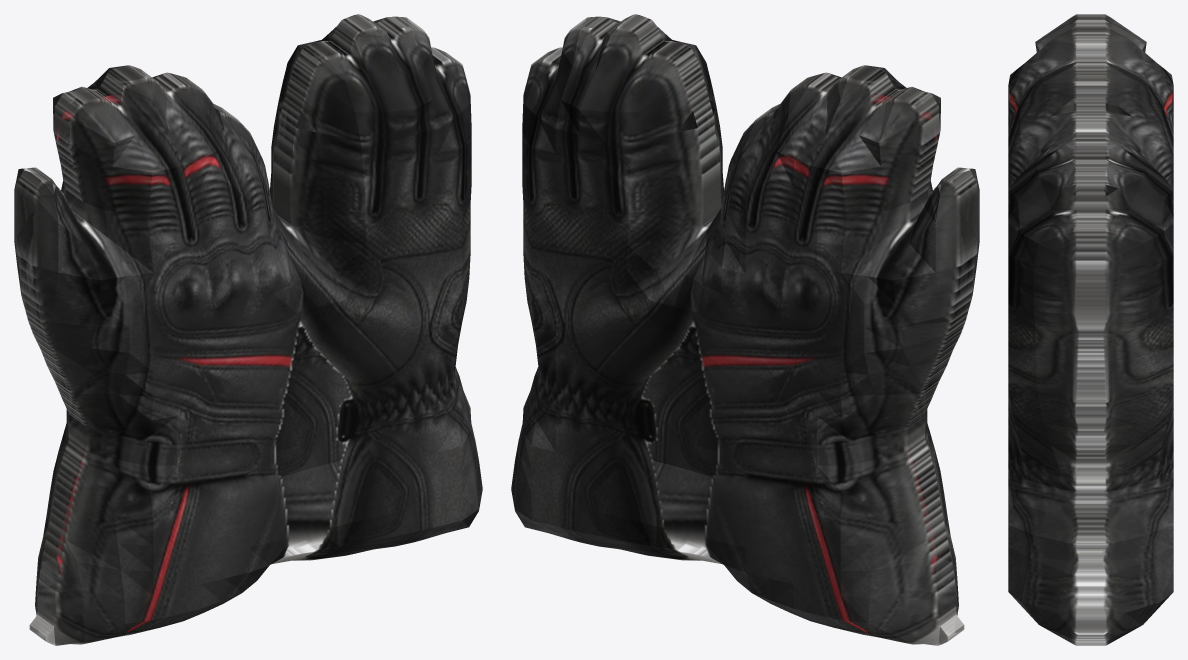
Rendered from schuberth-apex-winter-glove-085.glb.
3 renders of one model, left to right at view 1: azimuth 30°, elevation 25°; view 2: azimuth 150°, elevation 25°; view 3: azimuth 270°, elevation 25°, orthographic. The views are drawn at different scales.
Visible parts, largest first — view 1: world; view 2: world; view 3: world.
Part boxes in pixels (bbox=[...]): world: bbox=[14, 14, 482, 645]; world: bbox=[511, 14, 979, 645]; world: bbox=[1008, 14, 1173, 645].
Bounding box in the file's own units: 0.8443 × 1 × 0.3.
1 material, 1 textured.
